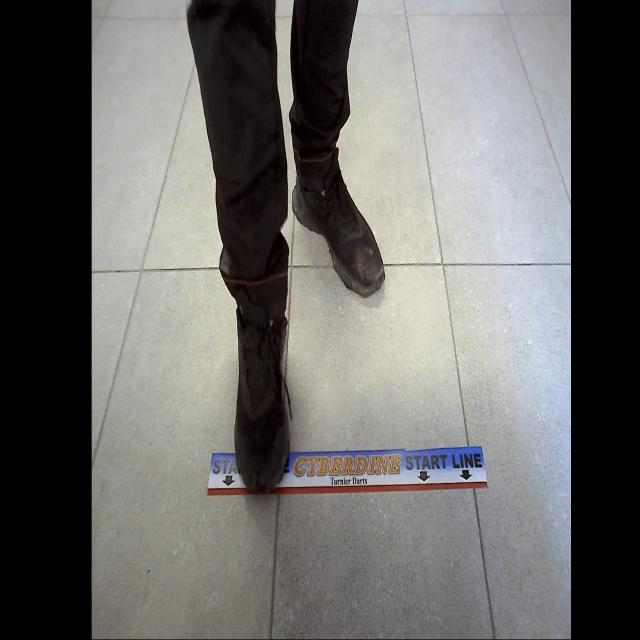foot: (291, 166, 385, 298), (233, 306, 290, 494)
